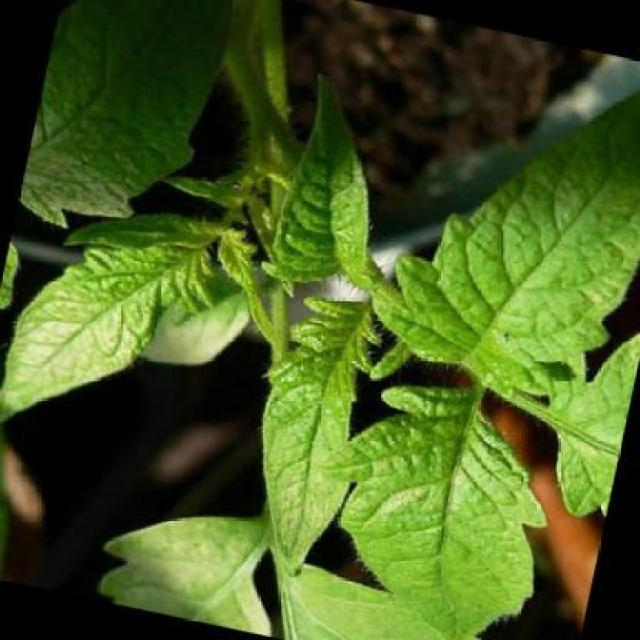Healthy Leaf: (380, 34, 640, 441), (288, 349, 583, 640), (0, 172, 246, 463), (223, 278, 403, 598), (262, 72, 416, 305)
